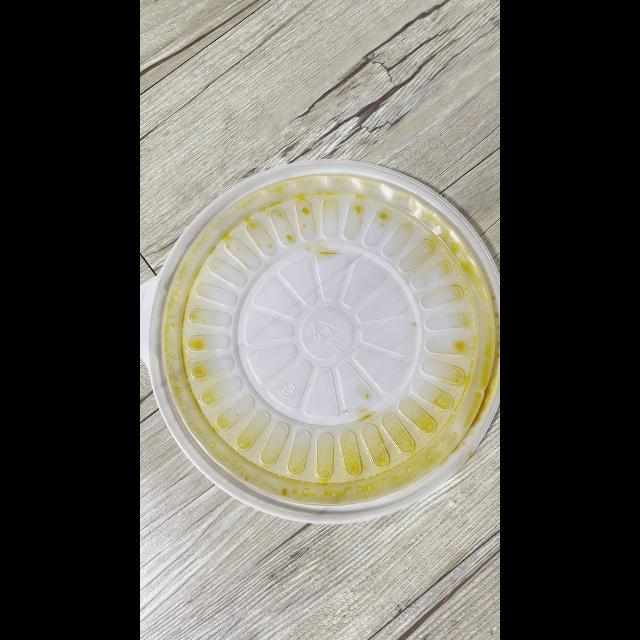dirty: (156, 168, 500, 524)
